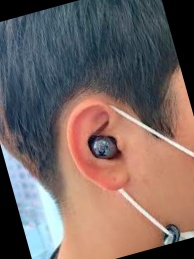earphone: (58, 93, 140, 200)
